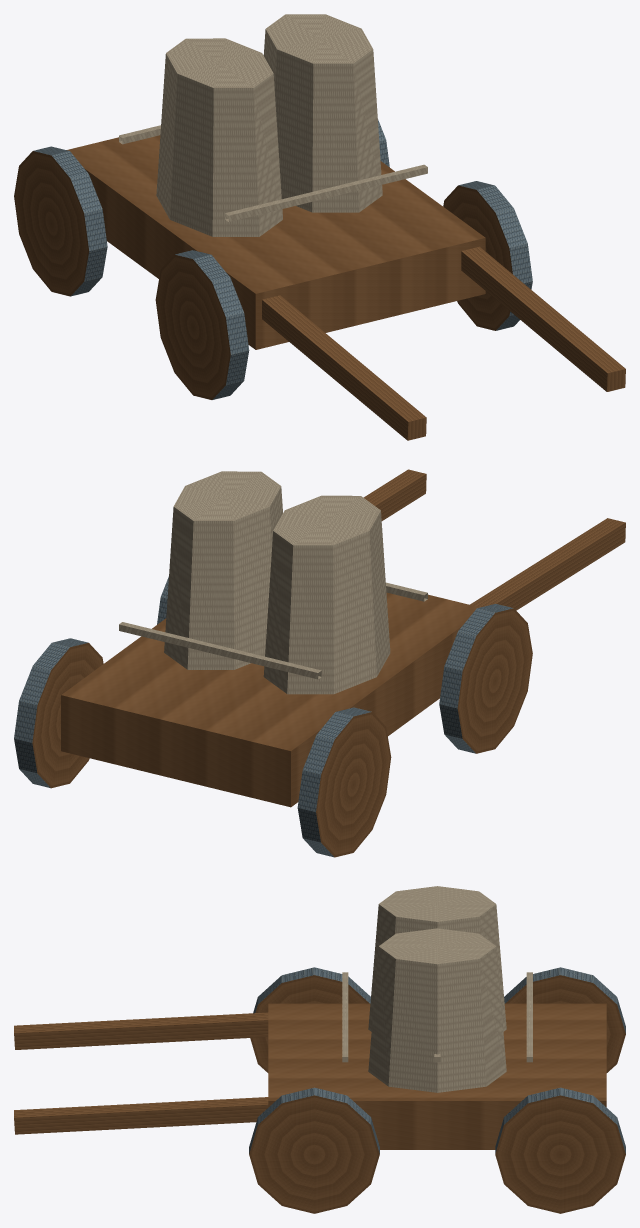
File: unit-transport-lod0.glb
The picture shows the model from 3 angles, top to bottom: view 1: azimuth 30°, elevation 25°; view 2: azimuth 150°, elevation 25°; view 3: azimuth 270°, elevation 25°; orthographic projection. The views are drawn at different scales.
Bounding box in the file's own units: 0.394 × 0.32 × 0.7957.
Materials: 1 (1 with a texture image).
